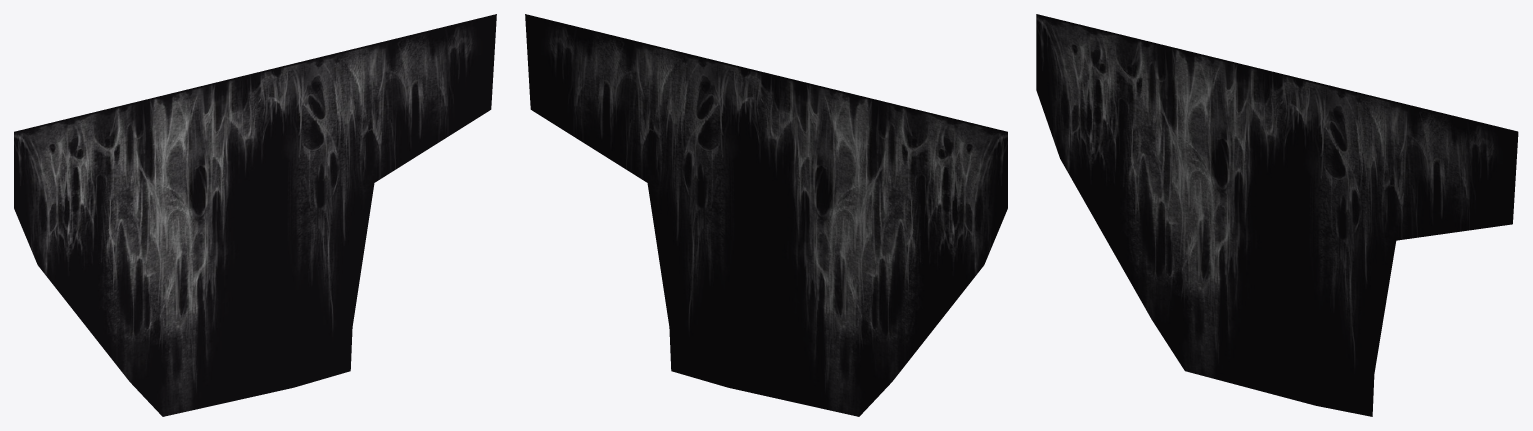
Rendered from web1.fbx.
The picture shows the model from 3 angles, left to right: view 1: azimuth 30°, elevation 25°; view 2: azimuth 150°, elevation 25°; view 3: azimuth 330°, elevation 25°; orthographic projection.
Parts seen in each view (by area): view 1: web1; view 2: web1; view 3: web1.
Part boxes in pixels (x1,y1,x2,y2): web1: (14,14,496,416); web1: (525,14,1007,416); web1: (1036,14,1518,416).
Bounding box in the file's own units: 10.48 × 6.73 × 0.
